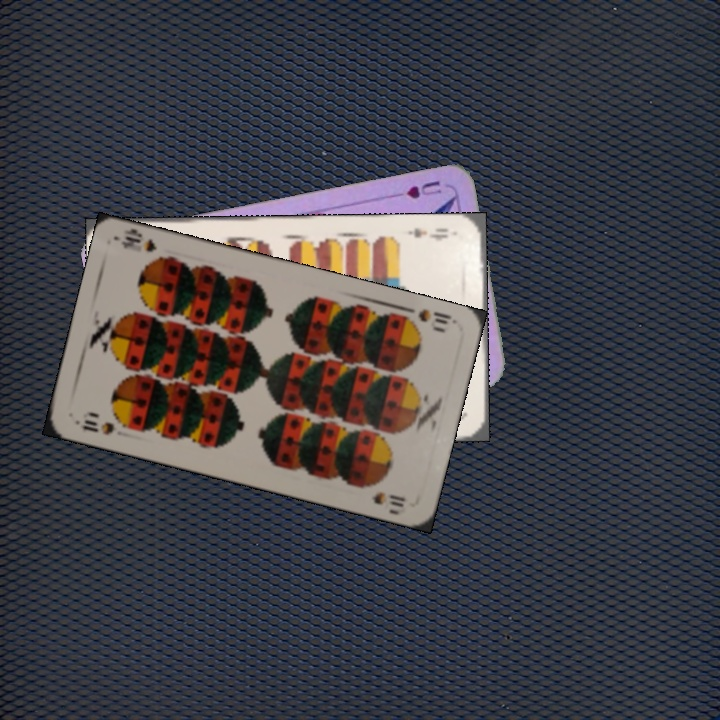E9: (404, 224, 451, 243)
HU: (390, 176, 444, 202)
S10: (398, 303, 457, 329), (77, 415, 117, 438)
